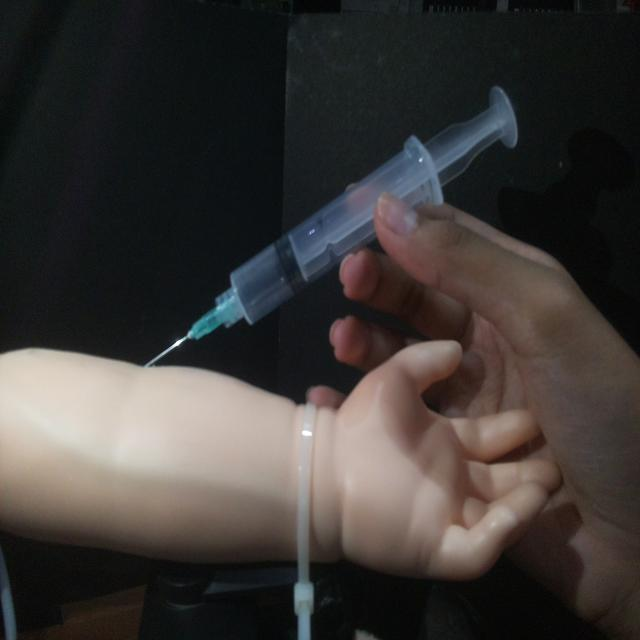27deg: (139, 80, 522, 370)
